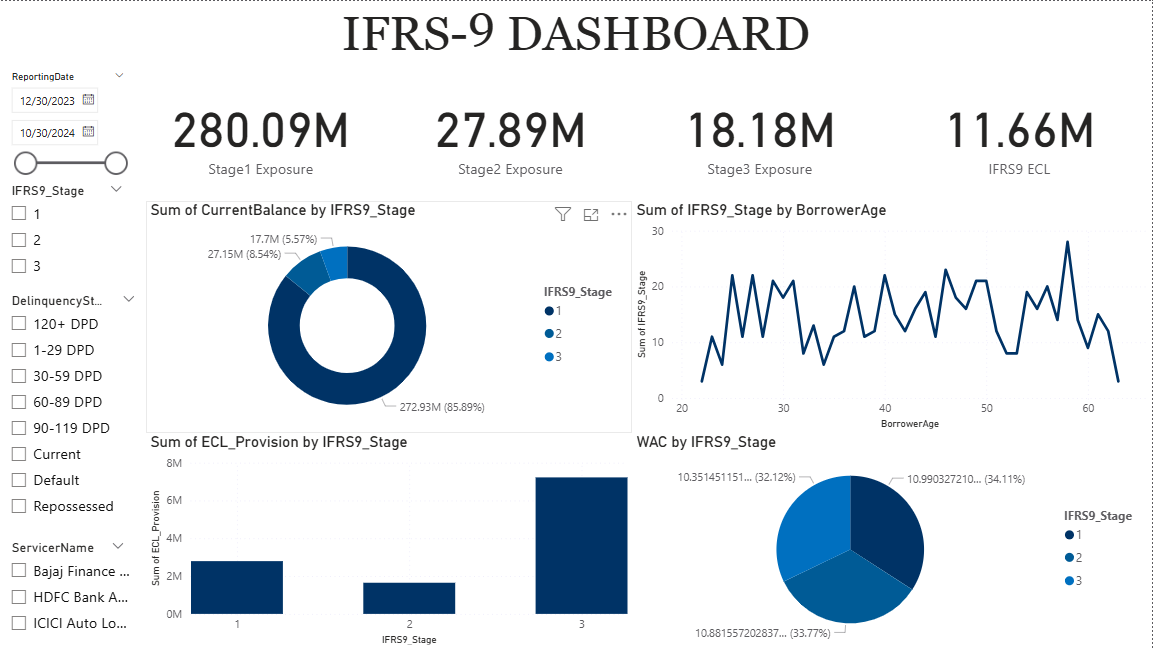

What the dashboard file says about the page in this screenshot:
{"tool":"powerbi","page":{"name":"IFRS-9 DASHBOARD","canvas":[1280,720],"ordinal":4},"visuals":[{"type":"slicer","fields":{"Values":["dynamic_loss_monthly.ReportingDate"]},"box":[0,72,150,126],"z":0},{"type":"slicer","fields":{"Values":["auto_loan_securitisation_data.IFRS9_Stage"]},"box":[0,198,148,122],"z":1000},{"type":"slicer","fields":{"Values":["auto_loan_securitisation_data.DelinquencyStatus"]},"box":[0,320,162,274],"z":2000},{"type":"slicer","fields":{"Values":["auto_loan_securitisation_data.ServicerName"]},"box":[0,594,150,126],"z":3000},{"type":"textbox","box":[0,0,1280,72],"z":4000},{"type":"card","fields":{"Values":["auto_loan_securitisation_data.Stage1 Exposure"]},"box":[148,72,284,150],"z":5000},{"type":"card","fields":{"Values":["auto_loan_securitisation_data.Stage2 Exposure"]},"box":[432,72,270,150],"z":6000},{"type":"card","fields":{"Values":["auto_loan_securitisation_data.Stage3 Exposure"]},"box":[702,72,284,150],"z":7000},{"type":"card","fields":{"Values":["auto_loan_securitisation_data.IFRS9 ECL"]},"box":[986,72,294,150],"z":8000},{"type":"donutChart","fields":{"Category":["auto_loan_securitisation_data.IFRS9_Stage"],"Y":["Sum(auto_loan_securitisation_data.CurrentBalance)"]},"box":[162,222,540,258],"z":9000},{"type":"clusteredColumnChart","fields":{"Category":["auto_loan_securitisation_data.IFRS9_Stage"],"Y":["Sum(auto_loan_securitisation_data.ECL_Provision)"]},"box":[162,480,540,240],"z":10000},{"type":"lineChart","fields":{"Category":["auto_loan_securitisation_data.BorrowerAge"],"Y":["Sum(auto_loan_securitisation_data.IFRS9_Stage)"]},"box":[702,222,578,258],"z":11000},{"type":"pieChart","fields":{"Category":["auto_loan_securitisation_data.IFRS9_Stage"],"Y":["auto_loan_securitisation_data.WAC"]},"box":[702,480,578,240],"z":12000}]}

Visuals, with their boxes in screenshot pixels (x1, y1, x2, y2), scaled from the page's 1280x720 canvas onto the 1153x648 screenshot:
slicer - dynamic_loss_monthly.ReportingDate: [left=0, top=65, right=135, bottom=178]
slicer - auto_loan_securitisation_data.IFRS9_Stage: [left=0, top=178, right=133, bottom=288]
slicer - auto_loan_securitisation_data.DelinquencyStatus: [left=0, top=288, right=146, bottom=535]
slicer - auto_loan_securitisation_data.ServicerName: [left=0, top=535, right=135, bottom=647]
textbox: [left=0, top=0, right=1152, bottom=65]
card - auto_loan_securitisation_data.Stage1 Exposure: [left=133, top=65, right=389, bottom=200]
card - auto_loan_securitisation_data.Stage2 Exposure: [left=389, top=65, right=632, bottom=200]
card - auto_loan_securitisation_data.Stage3 Exposure: [left=632, top=65, right=888, bottom=200]
card - auto_loan_securitisation_data.IFRS9 ECL: [left=888, top=65, right=1152, bottom=200]
donutChart - auto_loan_securitisation_data.IFRS9_Stage x Sum(auto_loan_securitisation_data.CurrentBalance): [left=146, top=200, right=632, bottom=432]
clusteredColumnChart - auto_loan_securitisation_data.IFRS9_Stage x Sum(auto_loan_securitisation_data.ECL_Provision): [left=146, top=432, right=632, bottom=647]
lineChart - auto_loan_securitisation_data.BorrowerAge x Sum(auto_loan_securitisation_data.IFRS9_Stage): [left=632, top=200, right=1152, bottom=432]
pieChart - auto_loan_securitisation_data.IFRS9_Stage x auto_loan_securitisation_data.WAC: [left=632, top=432, right=1152, bottom=647]
